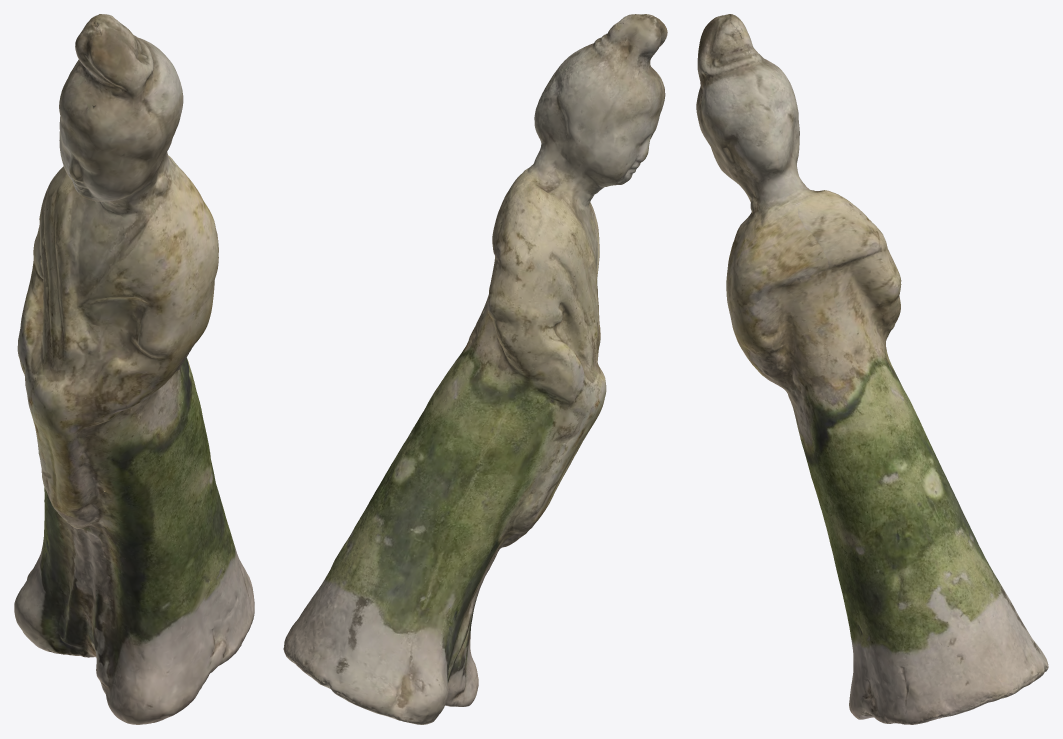
Rendered from preview.glb.
The picture shows the model from 3 angles, left to right: view 1: azimuth 30°, elevation 25°; view 2: azimuth 150°, elevation 25°; view 3: azimuth 270°, elevation 25°; orthographic projection. The views are drawn at different scales.
Parts seen in each view (by area): view 1: Object_2; view 2: Object_2; view 3: Object_2.
Part boxes in pixels (x1,y1,x2,y2): Object_2: (14,14,254,724); Object_2: (283,14,667,724); Object_2: (696,14,1048,724).
Size of the model in its own units: 1.16 by 2.9 by 1.43.
Materials: 1 (1 with a texture image).
